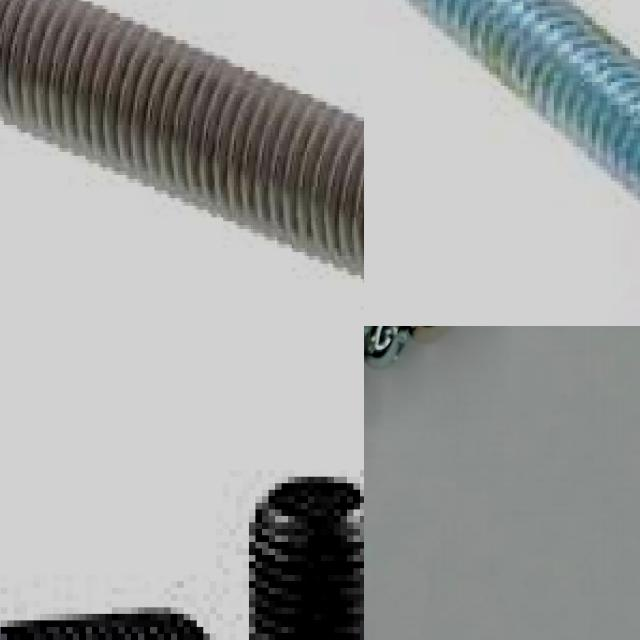Screw: (0, 0, 364, 282), (400, 0, 640, 204), (249, 477, 364, 640), (364, 326, 408, 367)
